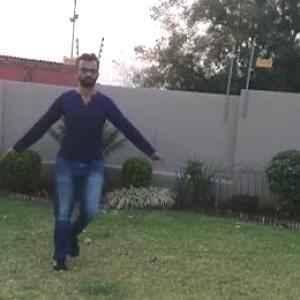land: (17, 66, 146, 243)
